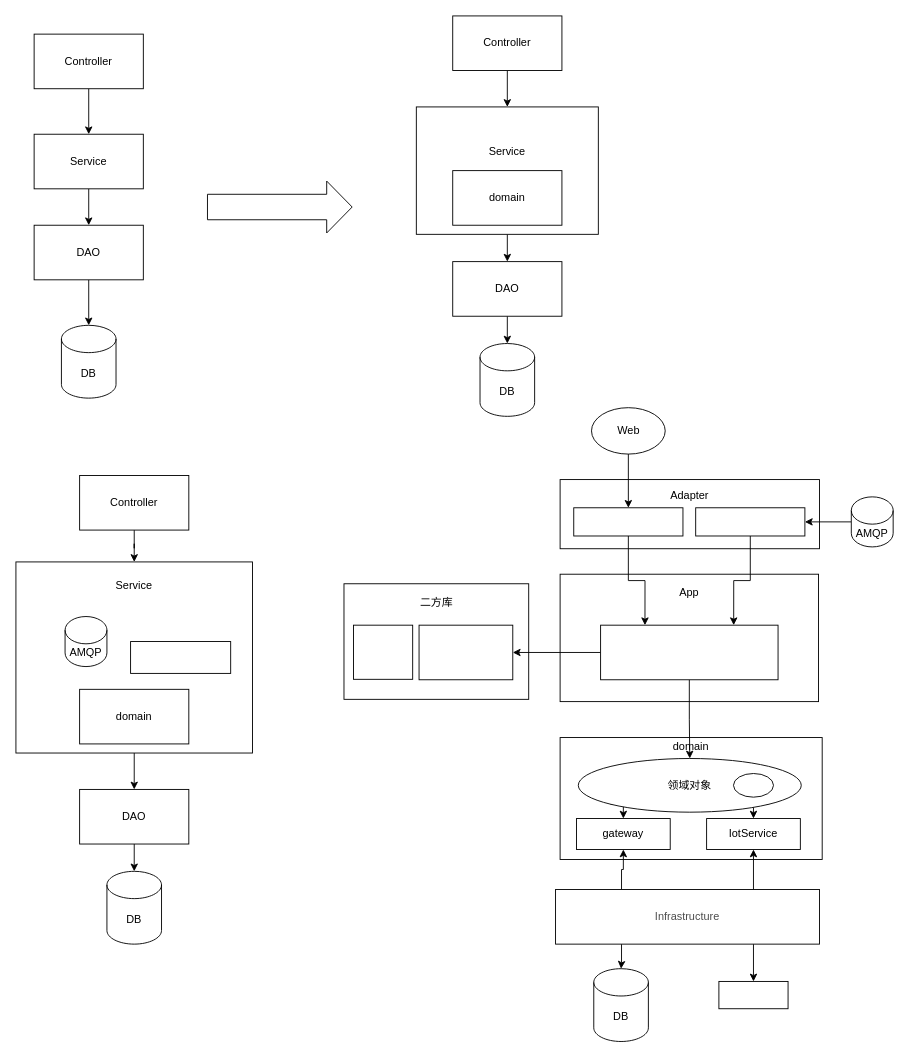
Some shapes in this 909 by 1057 pixel diagram are drawn without their labels. Each missing label, with the centre of its shape:
"DeviceServiceI" goes at point (465, 652).
"DeviceServiceImpl" goes at point (689, 652).
"dto" goes at point (383, 651).
"MessageListener" goes at point (750, 521).
"RestController" goes at point (628, 521).
"Rest过磅微服务" goes at point (180, 657).
"云端iot服务" goes at point (753, 995).
"状态机" goes at point (753, 785).
